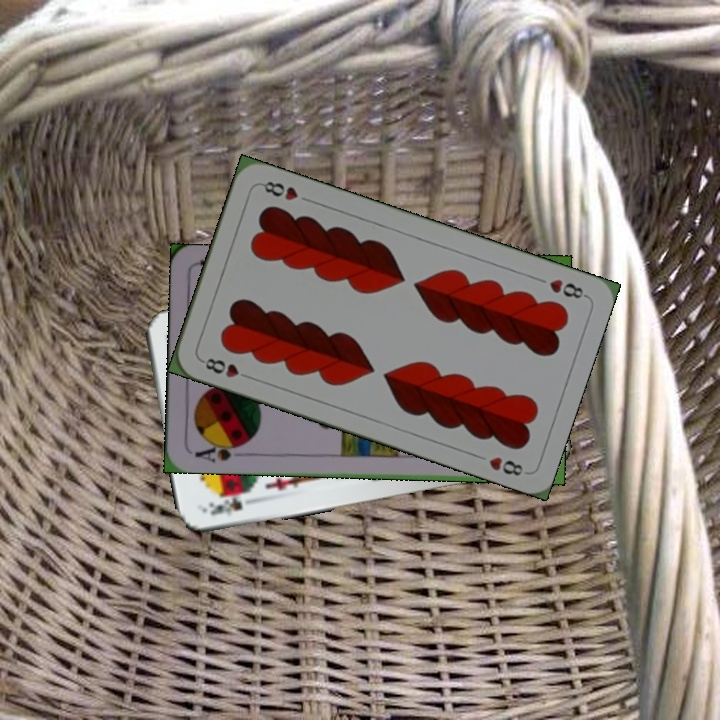H8: (197, 353, 254, 382), (545, 275, 589, 302)
SA: (190, 438, 249, 465)
SK: (205, 493, 245, 520)
